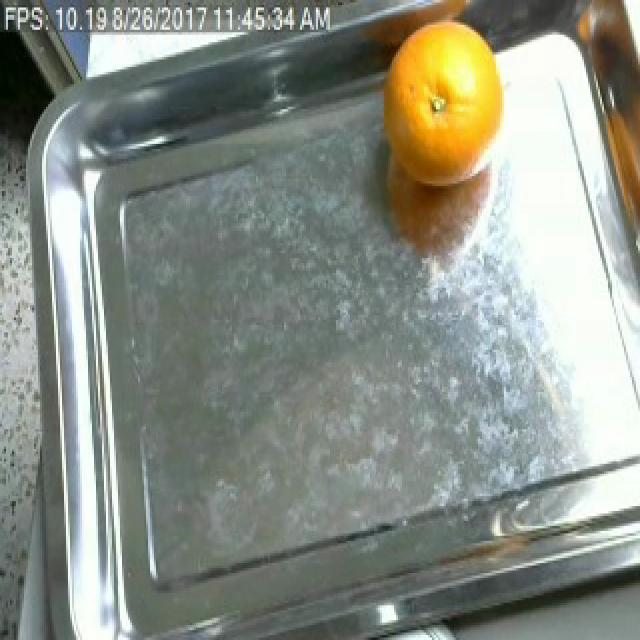Fruit: (356, 2, 526, 280), (590, 57, 640, 273)
